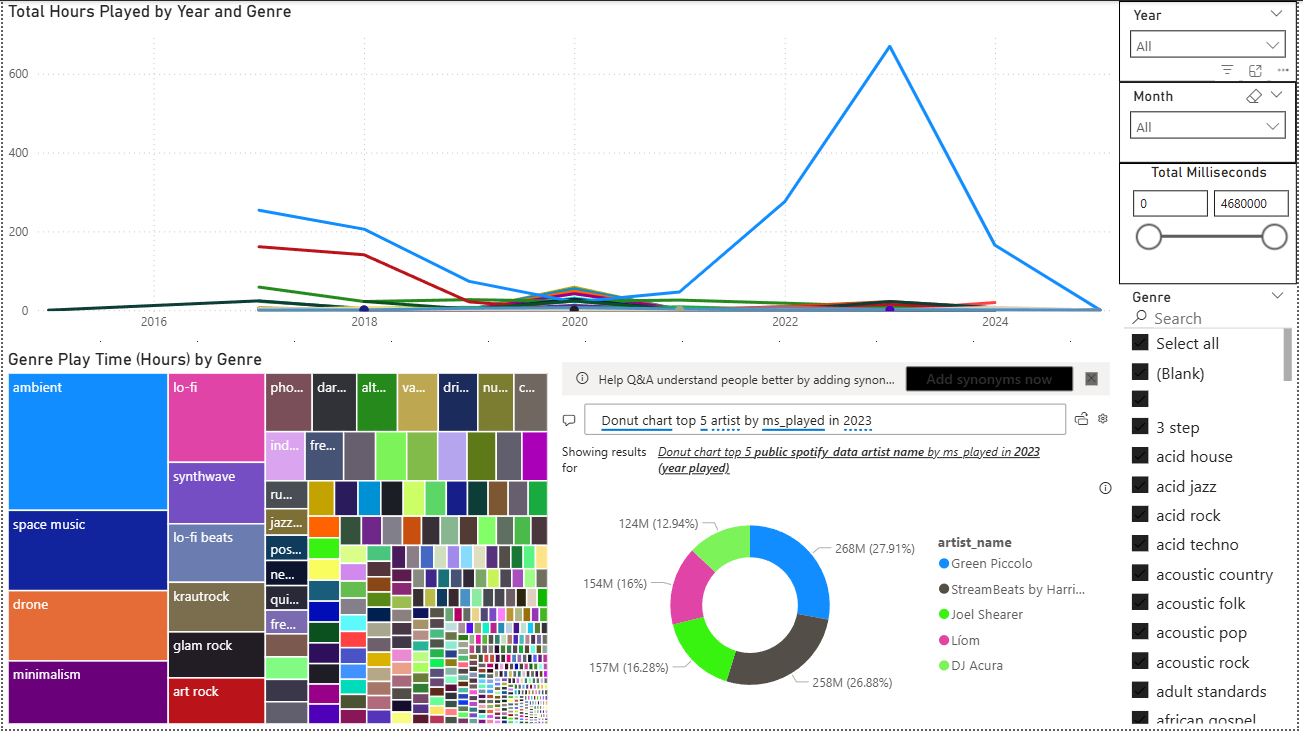

This screenshot's page, from the dashboard's own definition file:
{"tool":"powerbi","page":{"name":"Genre","canvas":[1280,720],"ordinal":4},"visuals":[{"type":"lineChart","fields":{"Category":["public spotify_data.timestamp_column.Variation.Date Hierarchy.Year","public spotify_data.timestamp_column.Variation.Date Hierarchy.Month"],"Series":["genres.Genre"],"Y":["public spotify_data.Total Hours Played"]},"box":[0,0,1104,336],"z":0},{"type":"treemap","fields":{"Group":["genres.Genre"],"Values":["genres.Genre Play Time (Hours)"]},"box":[0,344,544,376],"z":1000},{"type":"slicer","fields":{"Values":["public spotify_data.timestamp_column.Variation.Date Hierarchy.Year"]},"box":[1104,0,176,80],"z":2000},{"type":"slicer","fields":{"Values":["genres.Genre"]},"box":[1104,280,176,440],"z":3000},{"type":"slicer","fields":{"Values":["public spotify_data.timestamp_column.Variation.Date Hierarchy.Month"]},"box":[1104,80,176,80],"z":4000},{"type":"slicer","title":"Total Milliseconds","fields":{"Values":["public spotify_data.ms_played"]},"box":[1104,160,176,120],"z":5000},{"type":"qnaVisual","box":[544,344,560,376],"z":6000}]}

Visuals, with their boxes on the page's 1280x720 design canvas (x1, y1, x2, y2). These are canvas units, not pixel positions in the 1303x734 screenshot, which may show the page scaled, cropped or inside an application window:
lineChart - public spotify_data.timestamp_column.Variation.Date Hierarchy.Year x public spotify_data.timestamp_column.Variation.Date Hierarchy.Month: bbox=(0, 0, 1104, 336)
treemap - genres.Genre x genres.Genre Play Time (Hours): bbox=(0, 344, 544, 720)
slicer - public spotify_data.timestamp_column.Variation.Date Hierarchy.Year: bbox=(1104, 0, 1280, 80)
slicer - genres.Genre: bbox=(1104, 280, 1280, 720)
slicer - public spotify_data.timestamp_column.Variation.Date Hierarchy.Month: bbox=(1104, 80, 1280, 160)
"Total Milliseconds" slicer: bbox=(1104, 160, 1280, 280)
qnaVisual: bbox=(544, 344, 1104, 720)
